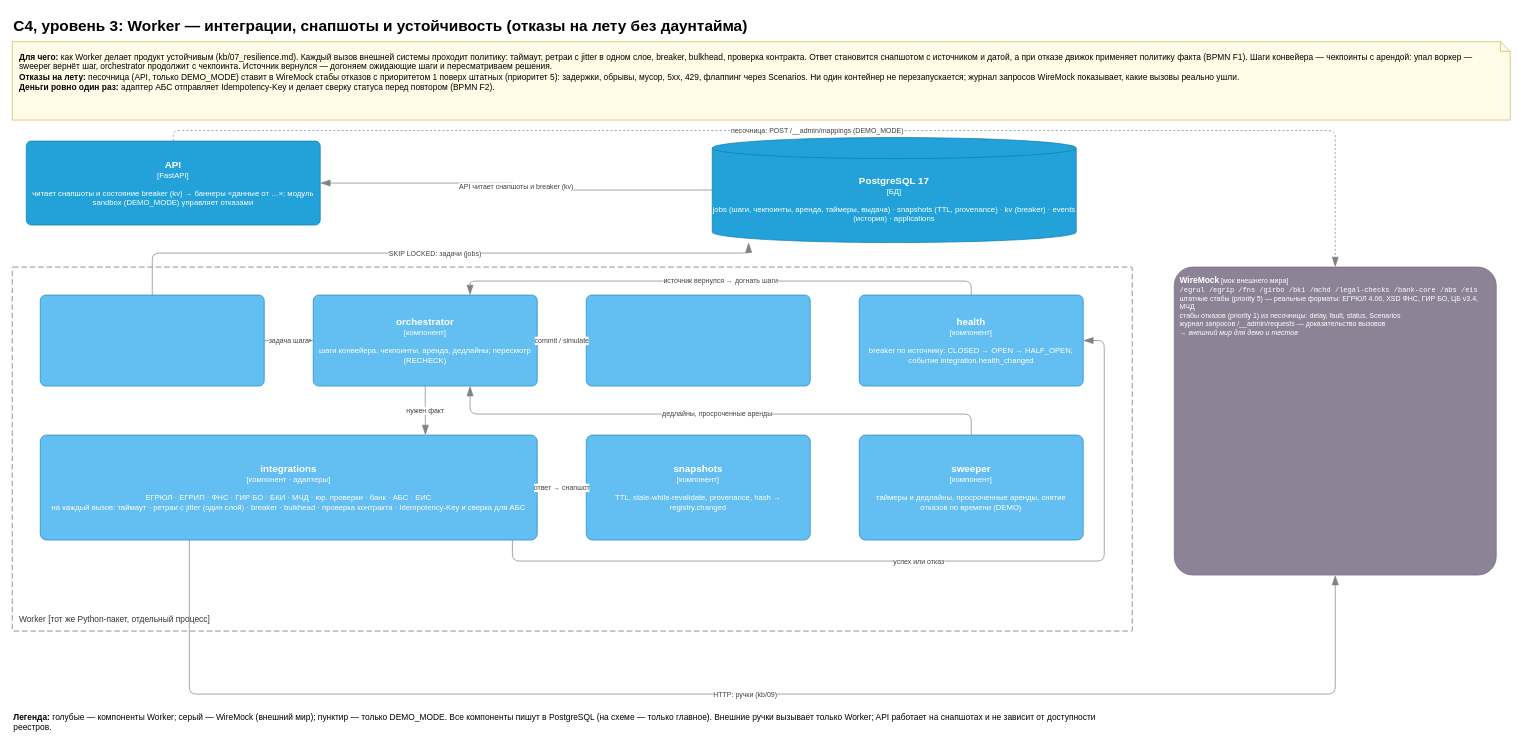
The diagram is 1523 pixels wide and 755 high, and some of its shapes have lost their labels. The centre of each missing label's shape, as x and y in pixels:
"decisioning [в процессе worker] commit и simulate; политики фактов (E1)" goes at point (698, 340).
"dispatcher [компонент] SKIP LOCKED: забирает задачи из jobs" goes at point (152, 340).
